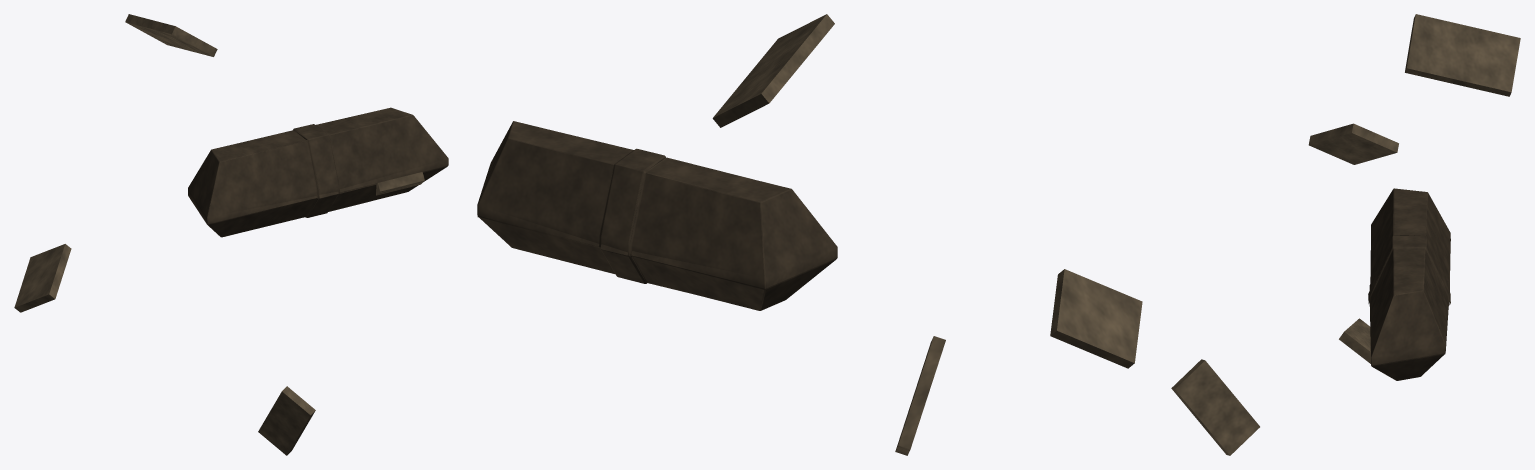
Rendered from aft_armor_slab.glb.
The picture shows the model from 3 angles, left to right: view 1: azimuth 30°, elevation 25°; view 2: azimuth 150°, elevation 25°; view 3: azimuth 270°, elevation 25°; orthographic projection. The views are drawn at different scales.
Parts seen in each view (by area): view 1: LOD0_aft_armor_slab_Material_Hull, LOD0_aft_armor_slab_Material_Insulation, LOD2_aft_armor_slab_Material_Hull, LOD2_aft_armor_slab_Material_Insulation, LOD1_aft_armor_slab_Material_Hull, LOD1_aft_armor_slab_Material_Insulation; view 2: LOD0_aft_armor_slab_Material_Hull, LOD0_aft_armor_slab_Material_Insulation, LOD2_aft_armor_slab_Material_Hull, LOD1_aft_armor_slab_Material_Hull, LOD1_aft_armor_slab_Material_Insulation; view 3: LOD0_aft_armor_slab_Material_Insulation, LOD0_aft_armor_slab_Material_Hull, LOD1_aft_armor_slab_Material_Hull, LOD2_aft_armor_slab_Material_Hull.
Part boxes in pixels (x1,y1,x2,y2): LOD0_aft_armor_slab_Material_Hull: (188, 107, 448, 237); LOD0_aft_armor_slab_Material_Insulation: (14, 14, 424, 455); LOD2_aft_armor_slab_Material_Hull: (208, 130, 448, 223); LOD2_aft_armor_slab_Material_Insulation: (258, 403, 296, 455); LOD1_aft_armor_slab_Material_Hull: (191, 115, 445, 236); LOD1_aft_armor_slab_Material_Insulation: (128, 18, 214, 52); LOD0_aft_armor_slab_Material_Hull: (477, 121, 837, 310); LOD0_aft_armor_slab_Material_Insulation: (712, 14, 1142, 455); LOD2_aft_armor_slab_Material_Hull: (477, 139, 765, 293); LOD1_aft_armor_slab_Material_Hull: (478, 121, 837, 310); LOD1_aft_armor_slab_Material_Insulation: (713, 14, 945, 354); LOD0_aft_armor_slab_Material_Insulation: (1171, 14, 1520, 455); LOD0_aft_armor_slab_Material_Hull: (1369, 188, 1450, 380); LOD1_aft_armor_slab_Material_Hull: (1370, 197, 1450, 376); LOD2_aft_armor_slab_Material_Hull: (1368, 210, 1450, 354).
Bounding box in the file's own units: 17.99 × 14.63 × 10.89.
2 materials, 2 textured.
